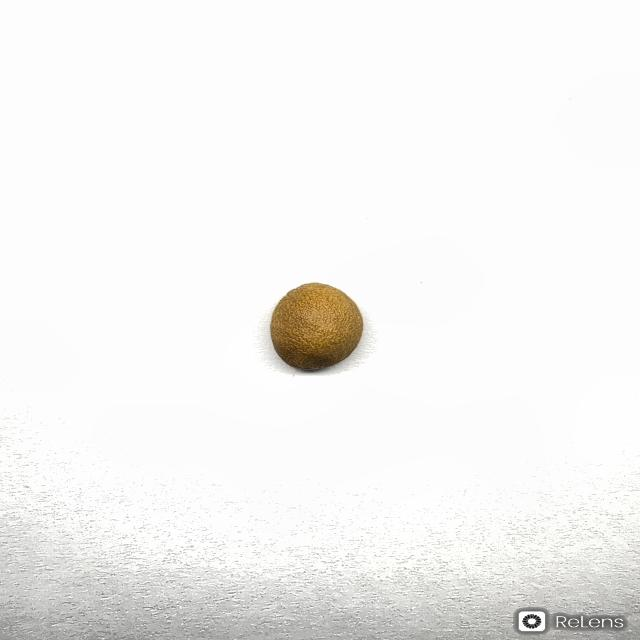Quaker: (269, 281, 364, 370)
